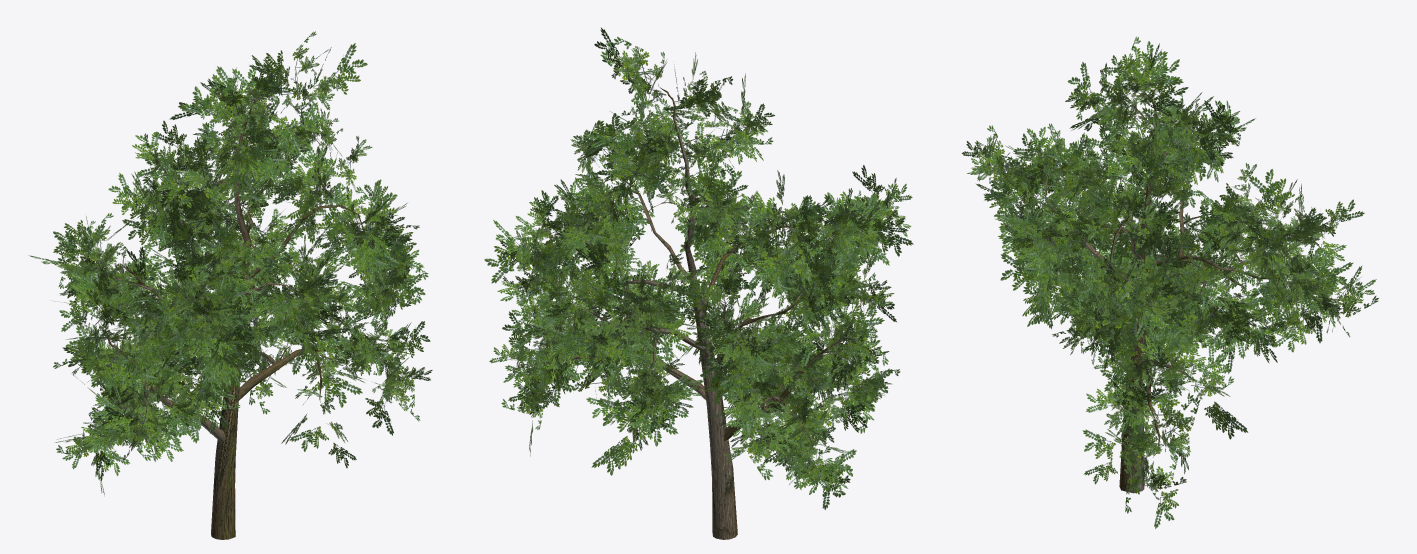
Rendered from Tree_Large_B.glb.
3 renders of one model, left to right at view 1: azimuth 30°, elevation 25°; view 2: azimuth 150°, elevation 25°; view 3: azimuth 270°, elevation 25°, orthographic. The views are drawn at different scales.
Parts seen in each view (by area): view 1: Tree_Large_B; view 2: Tree_Large_B; view 3: Tree_Large_B.
Boxes of the visible parts, x1,y1,x2,y2 form: Tree_Large_B: [29, 31, 432, 539]; Tree_Large_B: [484, 27, 913, 539]; Tree_Large_B: [961, 36, 1378, 528].
Size of the model in its own units: 5.9 by 7 by 5.99.
2 materials, 2 textured.
